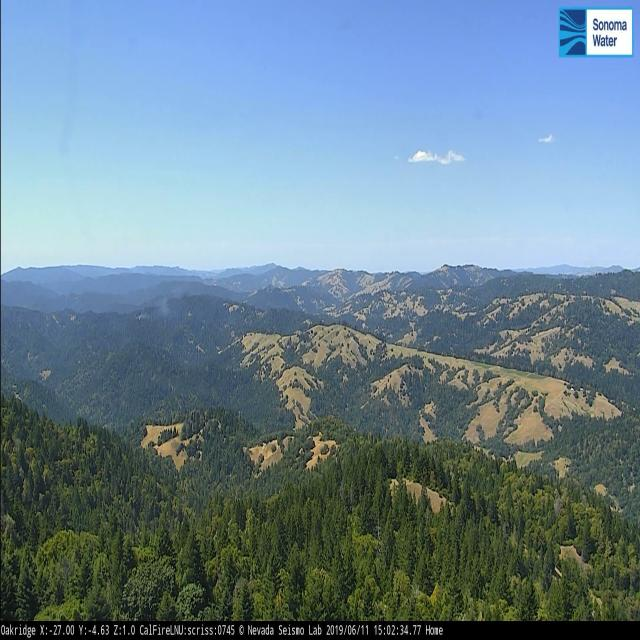smoke: (136, 300, 168, 322)
